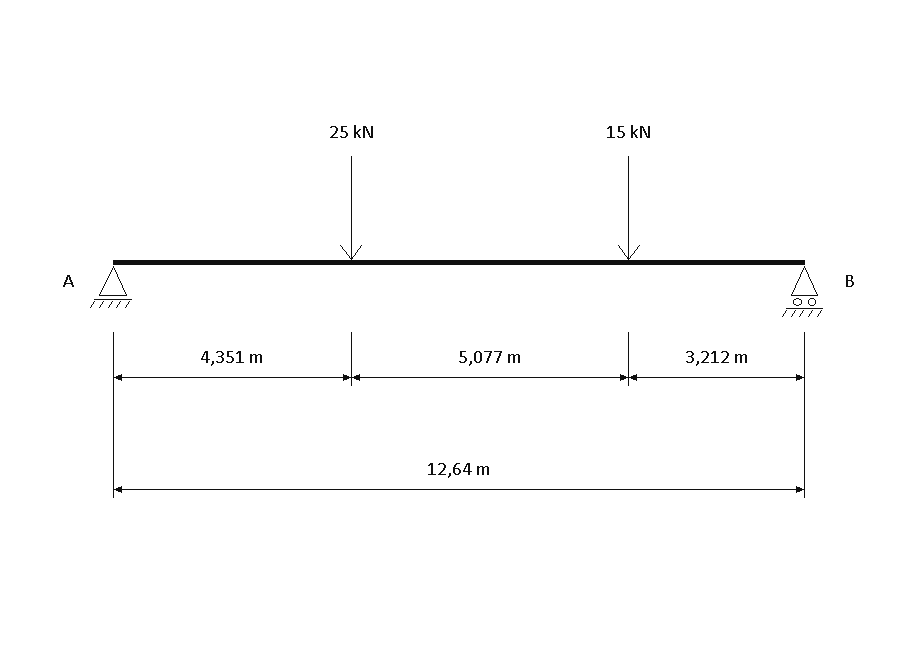pin_support: (90, 266, 132, 308)
point_load: (340, 156, 362, 260), (618, 156, 640, 260)
roller_support: (782, 266, 823, 317)
